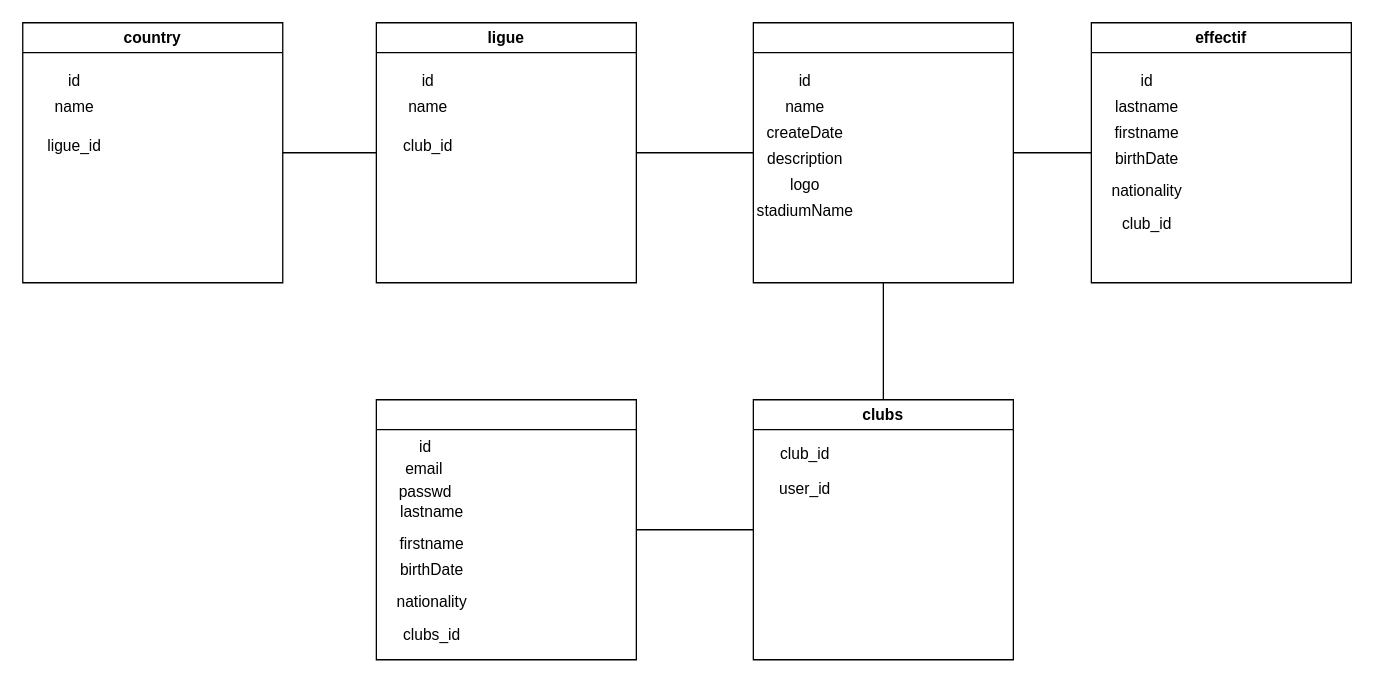
Image size: 1374x683. Some labels were removed from this diagram. Each missing label, with the box of its shape:
club: (752, 21, 1013, 283)
user: (375, 398, 636, 660)
